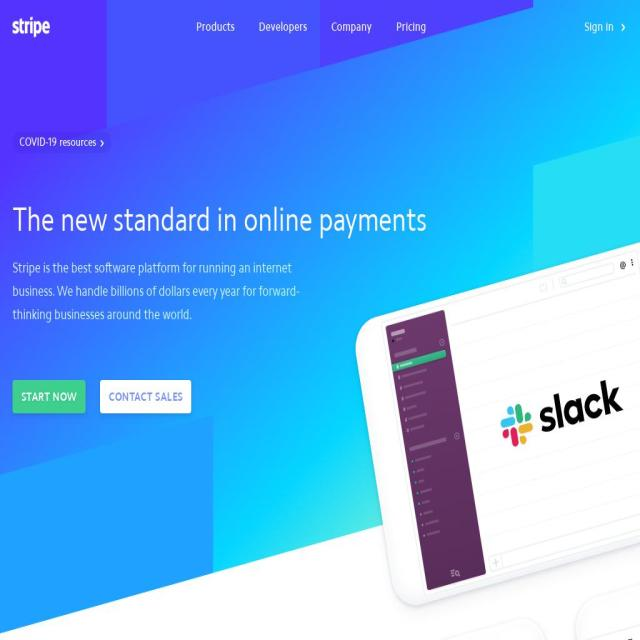button: (100, 380, 192, 414), (246, 8, 320, 45), (572, 8, 640, 45), (12, 380, 86, 414), (318, 8, 384, 45), (183, 8, 247, 45), (12, 132, 112, 154), (12, 16, 50, 37)
heading: (12, 199, 628, 240), (12, 16, 50, 37)
image: (0, 0, 640, 128), (380, 248, 640, 531), (0, 414, 214, 574), (533, 105, 640, 264), (106, 0, 320, 68), (581, 564, 640, 640), (320, 0, 534, 8)
link: (396, 19, 426, 34)
text: (12, 256, 320, 326), (19, 132, 96, 154), (584, 19, 616, 34)
